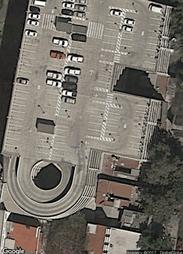parkingspot: (4, 0, 47, 153), (50, 32, 87, 162), (43, 35, 68, 116), (128, 98, 148, 156), (143, 12, 163, 69), (101, 8, 122, 51), (119, 12, 137, 53), (87, 102, 105, 138), (105, 107, 121, 140), (95, 62, 111, 89), (36, 133, 52, 160), (73, 0, 93, 18), (59, 0, 75, 16)
